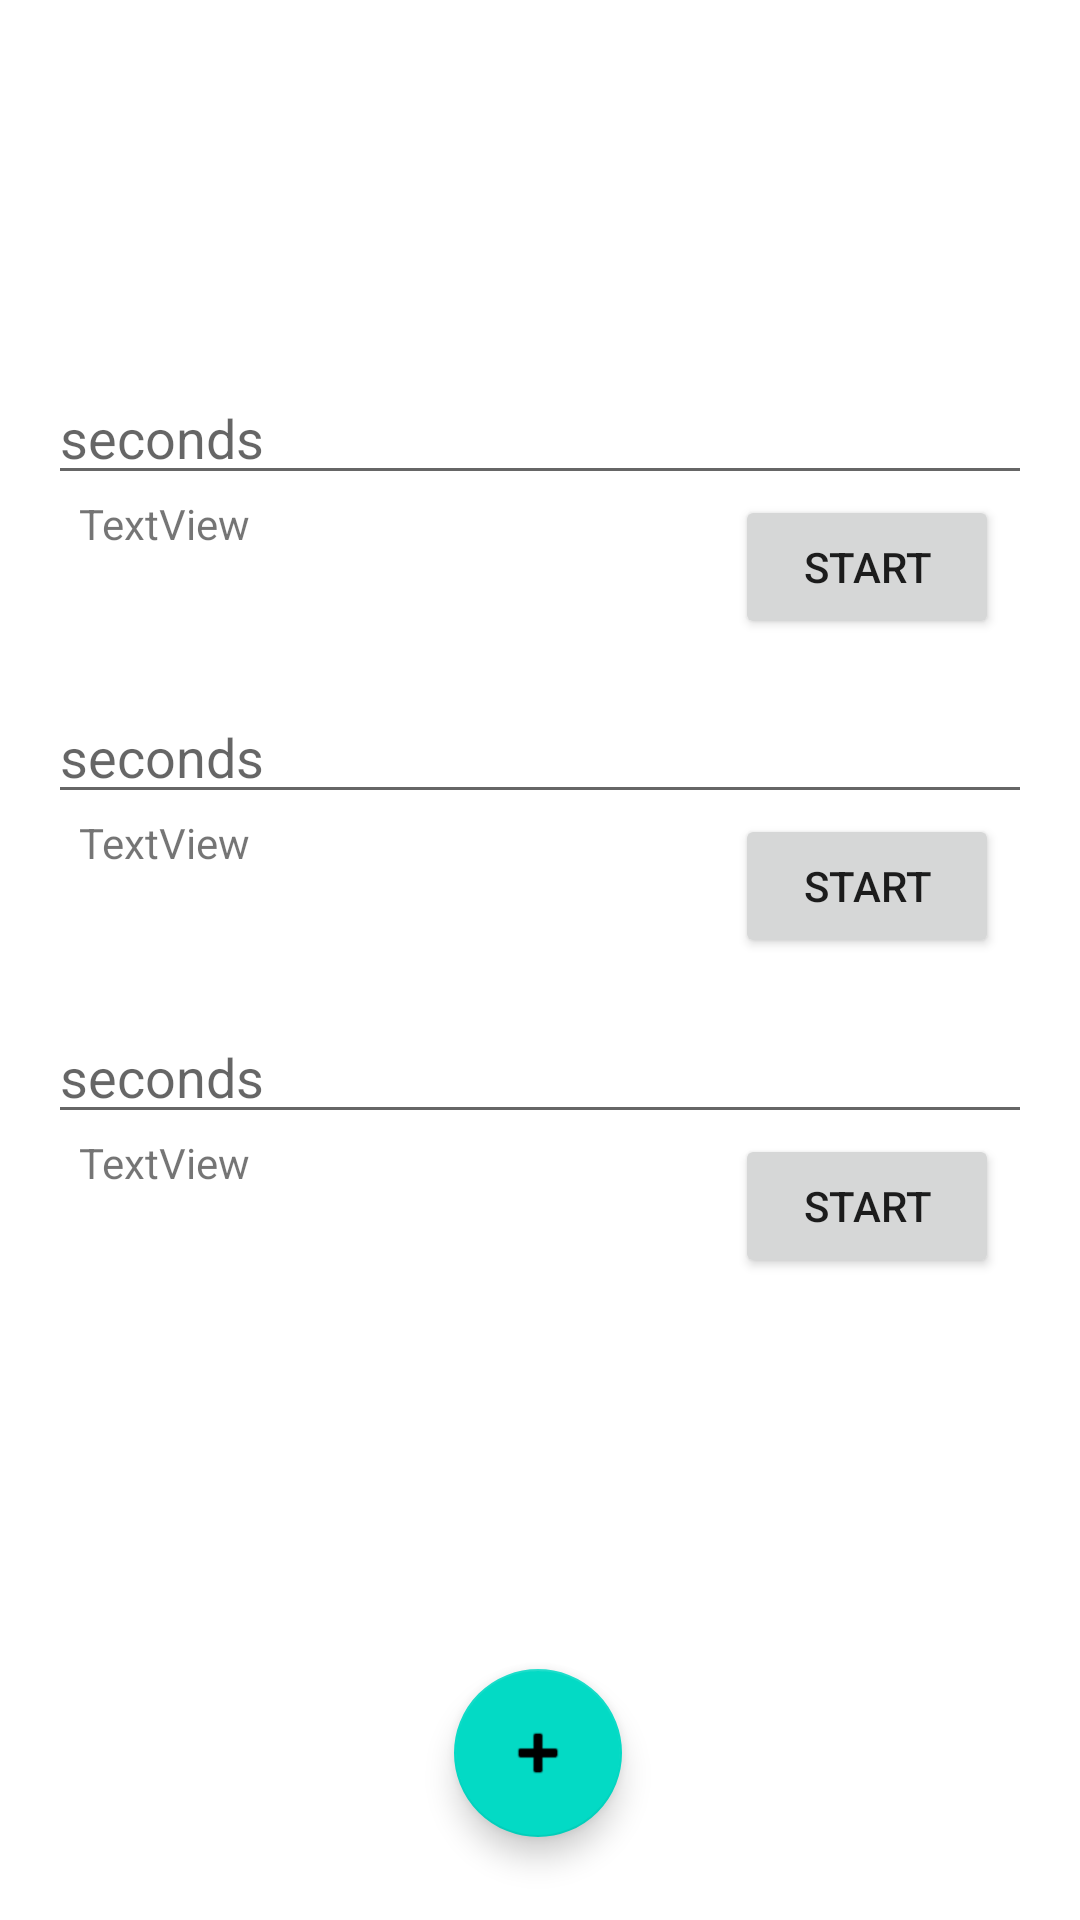

Point at icon controls on the screen. Image size 1080x1920, points as (x,y).
add: (538,1753)
